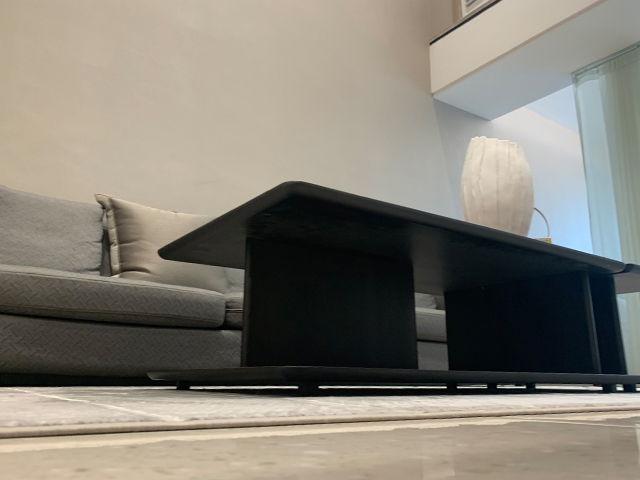carpet: (1, 384, 640, 441)
sofa: (1, 182, 246, 385)
table: (148, 179, 640, 396)
